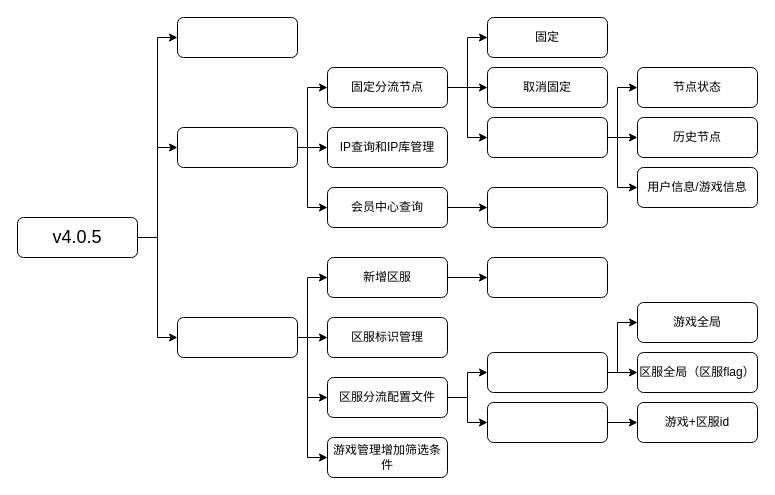
Image size: 775x495. Some labels were removed from this diagram. Here are the shapes that lost their labels. From the top down, the centre of each, then its label:
(237,37): 节点分配
(237,147): 用户信息
(547,137): 信息展示
(547,207): cn2节点展示
(547,277): 增加区服标识配置
(237,337): 游戏管理
(547,372): 全局
(547,422): 私有
